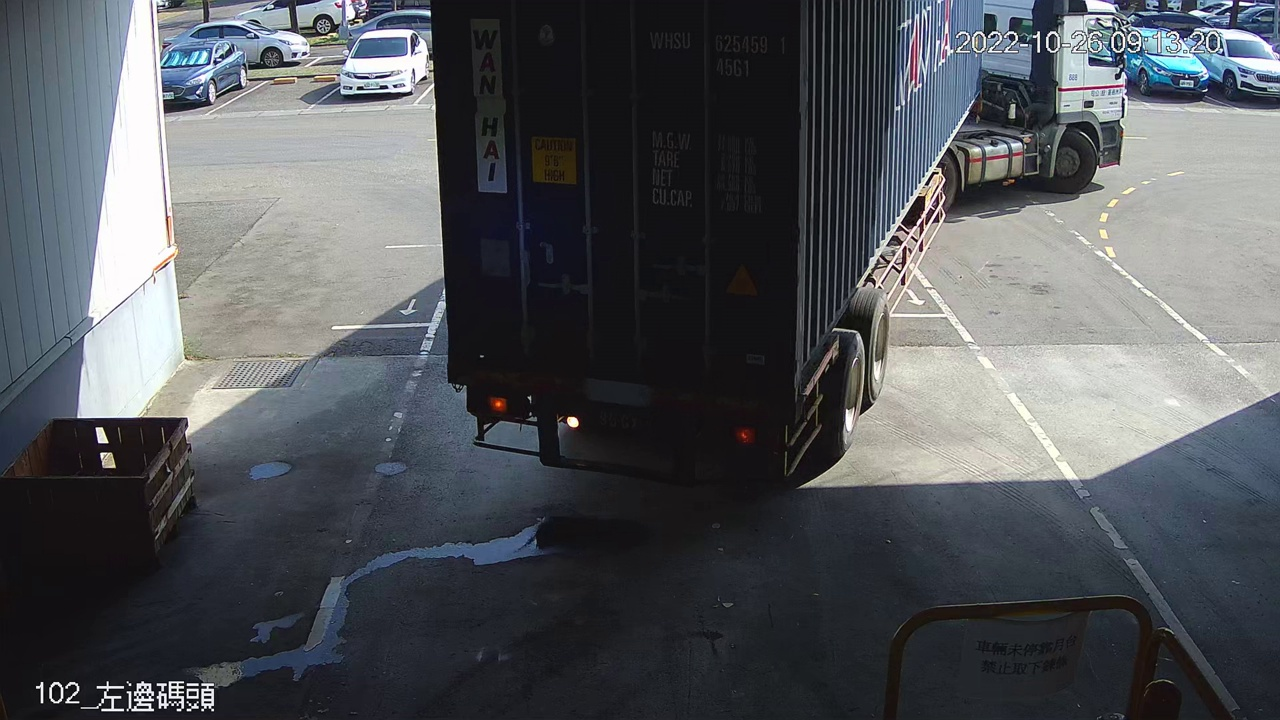container: (643, 21, 795, 85)
